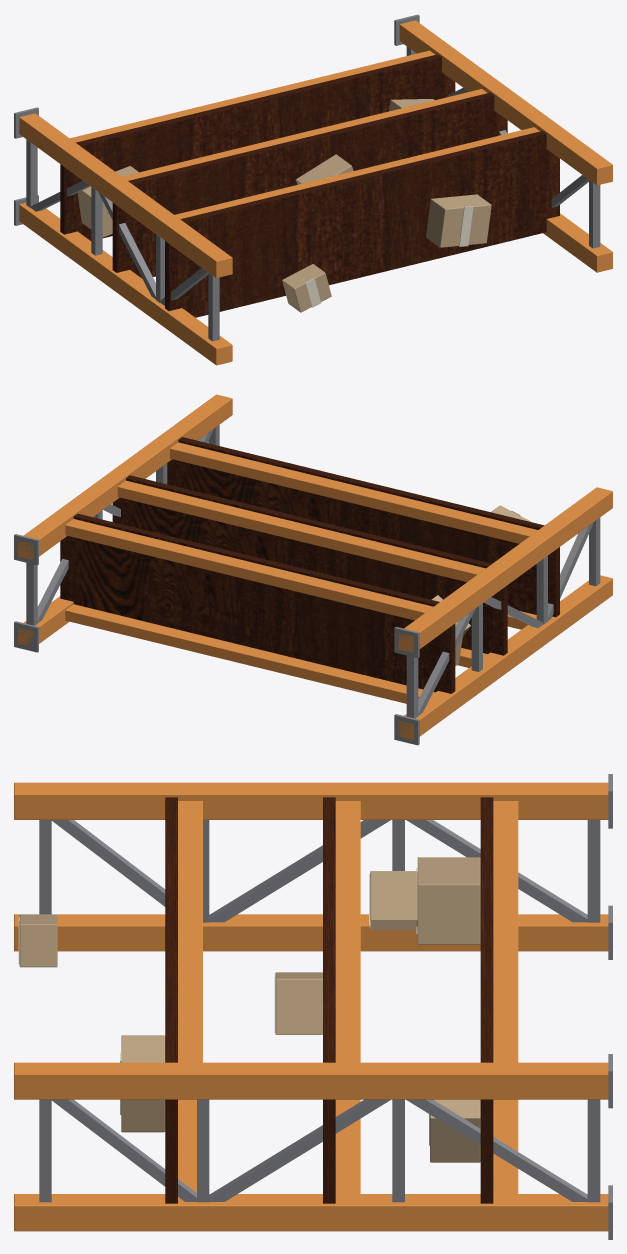
File: shelf_picking_shelfwall.glb
3 renders of one model, top to bottom at view 1: azimuth 30°, elevation 25°; view 2: azimuth 150°, elevation 25°; view 3: azimuth 270°, elevation 25°, orthographic. The views are drawn at different scales.
Parts seen in each view (by area): view 1: SHELF_board_2, SHELF_board_1, SHELF_board_0, SHELF_post_-1_0.505, SHELF_post_1_0.505, SHELF_post_-1_0.045, SHELF_cE, SHELF_beam_b_0, SHELF_beam_b_1, SHELF_beam_b_2, SHELF_post_1_0.045, SHELF_cF (+9 smaller); view 2: SHELF_board_0, SHELF_board_2, SHELF_board_1, SHELF_beam_b_0, SHELF_beam_b_1, SHELF_beam_b_2, SHELF_post_-1_0.505, SHELF_beam_f_0, SHELF_post_1_0.505, SHELF_post_-1_0.045, SHELF_post_1_0.045, SHELF_brace_d_-1_0.06 (+12 smaller); view 3: SHELF_post_1_0.505, SHELF_post_1_0.045, SHELF_post_-1_0.505, SHELF_post_-1_0.045, SHELF_beam_b_0, SHELF_beam_b_1, SHELF_beam_b_2, SHELF_cA, SHELF_board_0, SHELF_board_1, SHELF_board_2, SHELF_cD (+21 smaller).
Boxes of the visible parts, bbox=[...] form: SHELF_board_2: bbox=[165, 131, 559, 317]; SHELF_board_1: bbox=[112, 92, 507, 278]; SHELF_board_0: bbox=[60, 54, 455, 240]; SHELF_post_-1_0.505: bbox=[19, 113, 232, 278]; SHELF_post_1_0.505: bbox=[399, 20, 612, 185]; SHELF_post_-1_0.045: bbox=[19, 202, 232, 365]; SHELF_cE: bbox=[426, 194, 491, 247]; SHELF_beam_b_0: bbox=[70, 50, 435, 142]; SHELF_beam_b_1: bbox=[122, 89, 487, 180]; SHELF_beam_b_2: bbox=[175, 127, 539, 219]; SHELF_post_1_0.045: bbox=[543, 213, 612, 272]; SHELF_cF: bbox=[282, 264, 331, 312]; SHELF_board_0: bbox=[60, 513, 455, 693]; SHELF_board_2: bbox=[167, 437, 559, 617]; SHELF_board_1: bbox=[112, 475, 507, 655]; SHELF_beam_b_0: bbox=[65, 519, 433, 620]; SHELF_beam_b_1: bbox=[117, 480, 485, 581]; SHELF_beam_b_2: bbox=[170, 442, 537, 543]; SHELF_post_-1_0.505: bbox=[398, 487, 612, 652]; SHELF_beam_f_0: bbox=[65, 604, 435, 703]; SHELF_post_1_0.505: bbox=[18, 394, 232, 559]; SHELF_post_-1_0.045: bbox=[398, 575, 612, 740]; SHELF_post_1_0.045: bbox=[18, 596, 73, 646]; SHELF_brace_d_-1_0.06: bbox=[418, 608, 475, 715]; SHELF_post_1_0.505: bbox=[14, 1062, 608, 1099]; SHELF_post_1_0.045: bbox=[14, 1194, 608, 1231]; SHELF_post_-1_0.505: bbox=[14, 782, 608, 819]; SHELF_post_-1_0.045: bbox=[14, 914, 608, 951]; SHELF_beam_b_0: bbox=[493, 801, 518, 1062]; SHELF_beam_b_1: bbox=[335, 801, 360, 1062]; SHELF_beam_b_2: bbox=[178, 801, 202, 1062]; SHELF_cA: bbox=[417, 857, 480, 944]; SHELF_board_0: bbox=[480, 797, 493, 1203]; SHELF_board_1: bbox=[323, 797, 335, 1203]; SHELF_board_2: bbox=[165, 797, 177, 1203]; SHELF_cD: bbox=[275, 972, 322, 1034].
Size of the model in its own units: 2.23 by 0.59 by 1.9.
10 materials, 1 textured.
